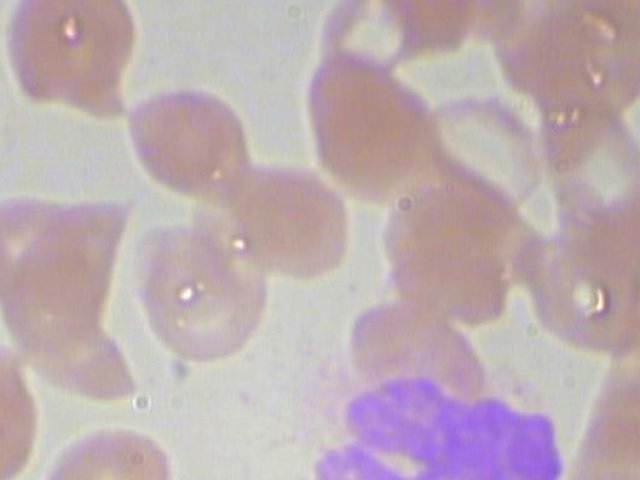RBC: (124, 211, 280, 371), (376, 182, 521, 332), (0, 0, 146, 136), (215, 157, 356, 279), (121, 85, 257, 203), (514, 236, 640, 359), (37, 409, 182, 480), (0, 339, 51, 480), (0, 56, 5, 185)
WBC: (238, 339, 588, 480)
